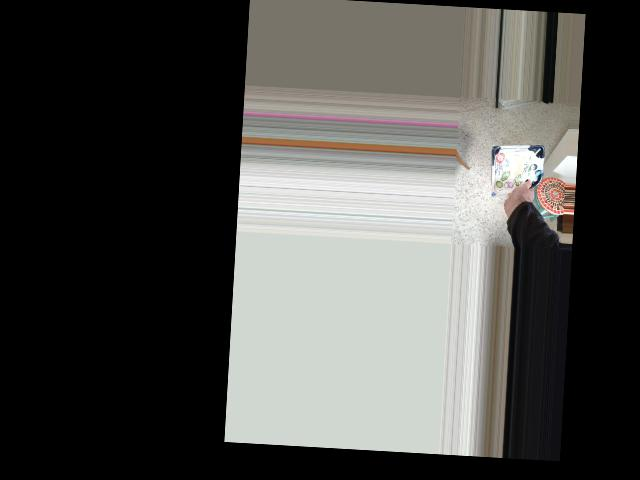cheese: (481, 144, 551, 215)
